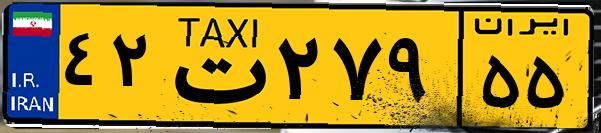2: (270, 28, 330, 110), (110, 28, 158, 98)
4: (57, 26, 110, 100)
5: (475, 38, 525, 113), (525, 38, 570, 115)
7: (330, 28, 385, 110)
9: (385, 28, 445, 110)
ت: (158, 12, 270, 120)
